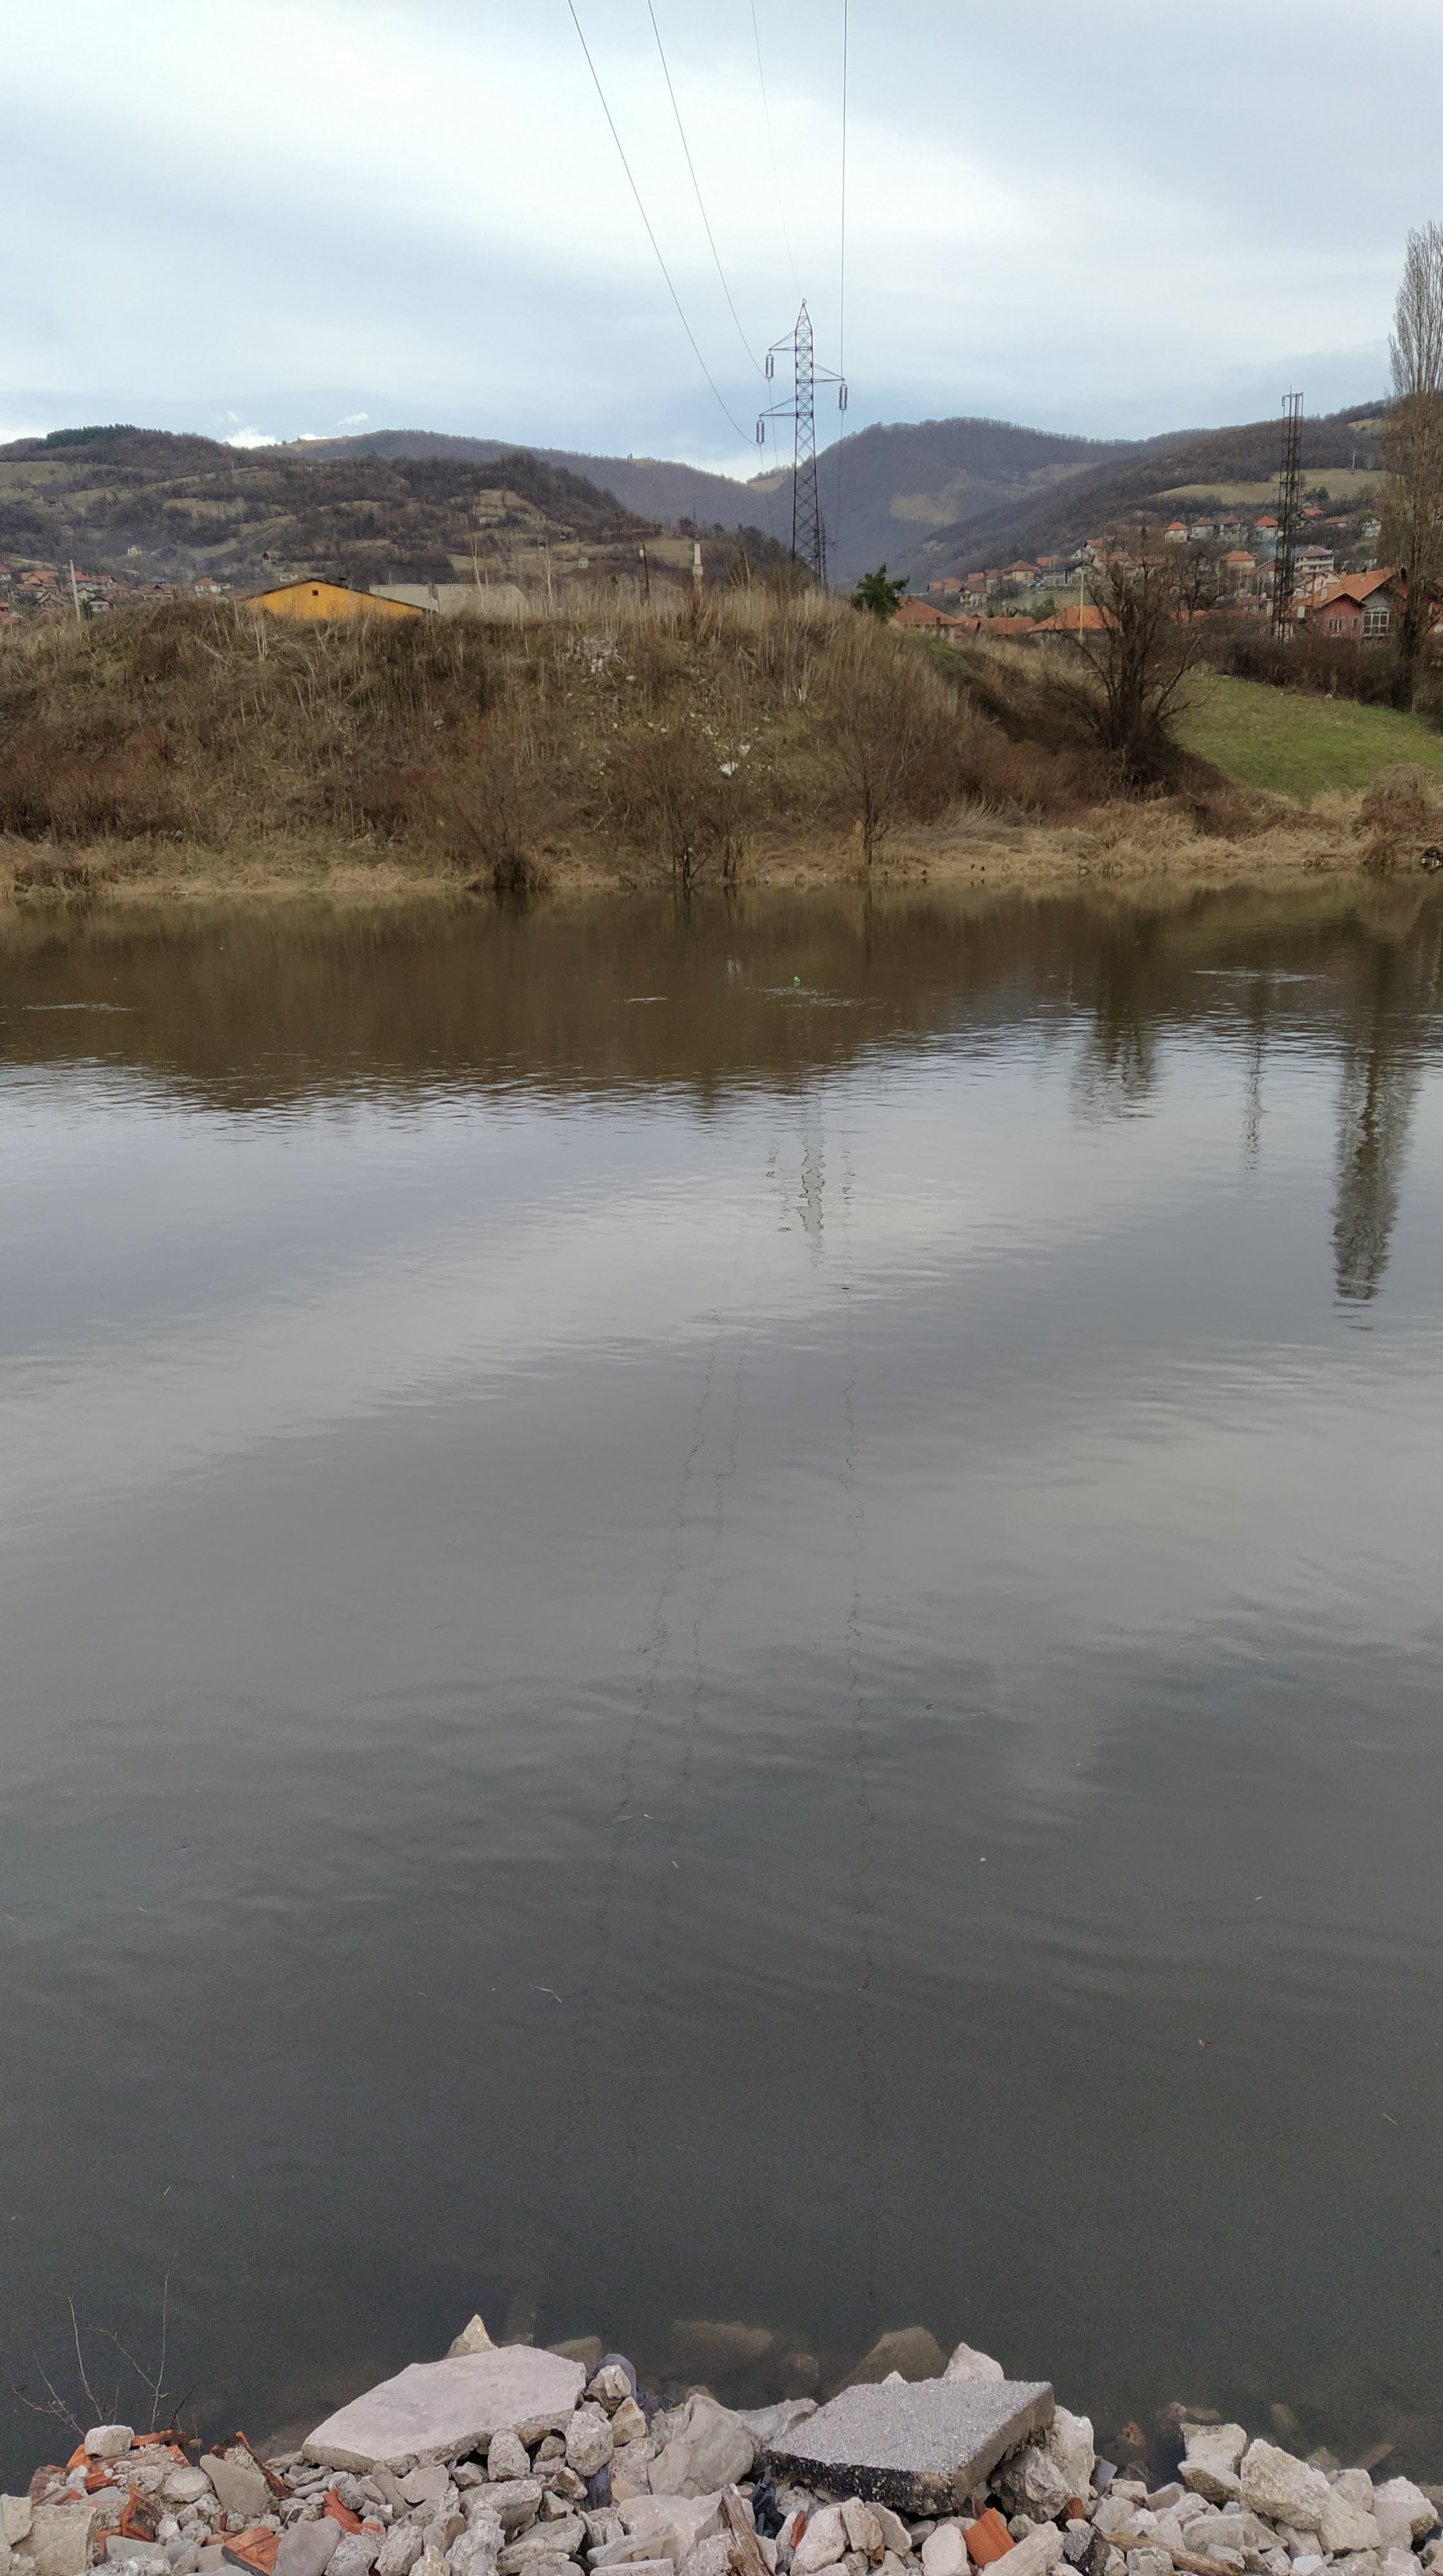Plastic Bottle: (793, 975, 800, 982)
